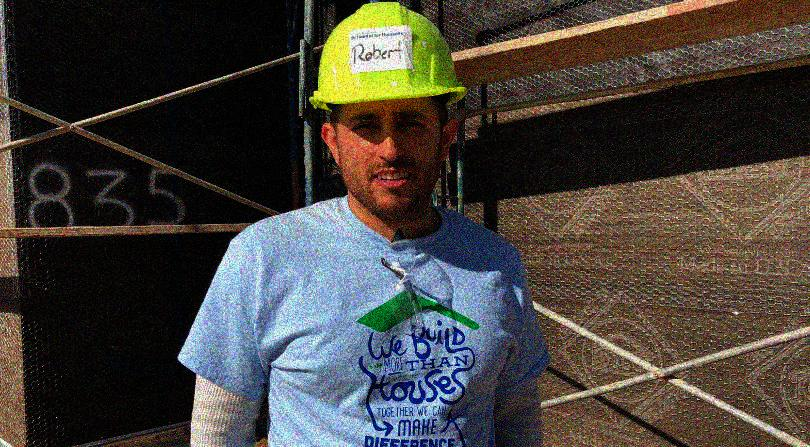helmet: (311, 5, 467, 221)
